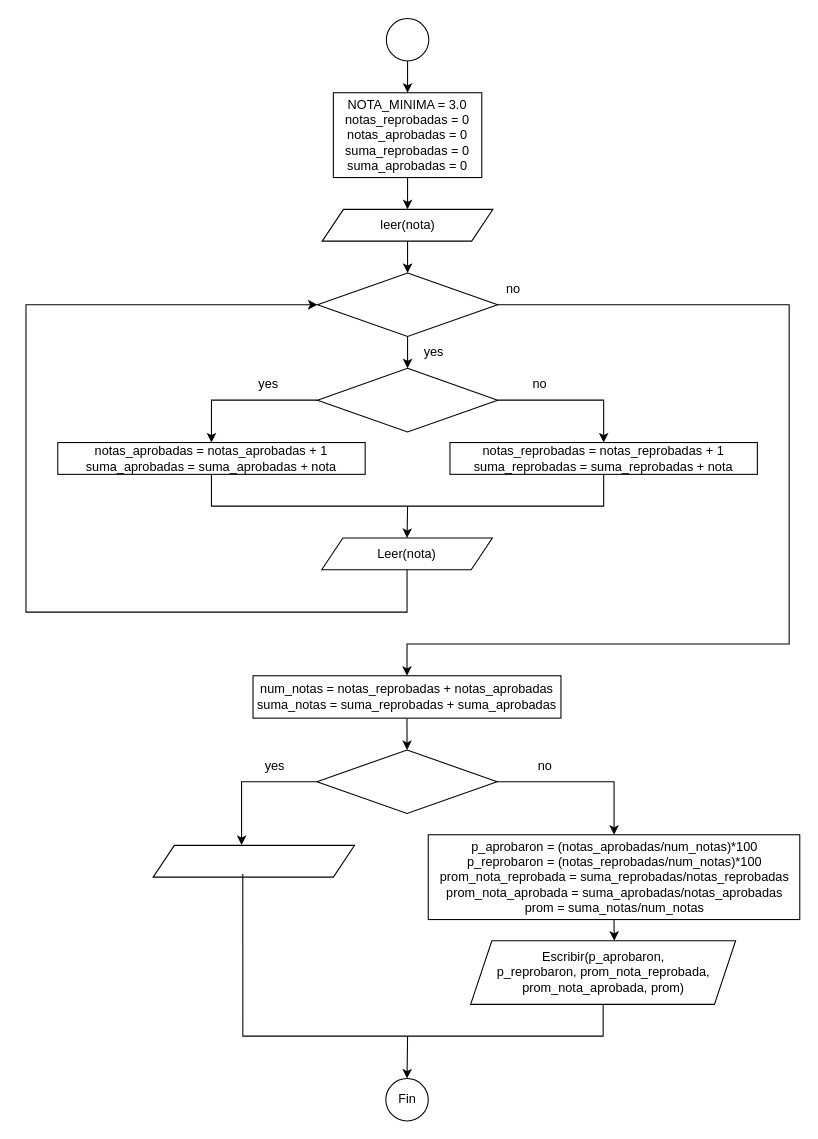
Image size: 818x1139. Some labels were removed from this diagram. The box of each missing label's shape, as (x1, y1, x2, y2) in pixels:
Escribir('No hay estudianes'): (152, 844, 355, 877)
Inicio: (385, 17, 429, 61)
nota != -1: (316, 272, 498, 337)
nota >= NOTA_MINIMA: (316, 367, 498, 432)
num_notas == 0: (316, 749, 497, 814)
